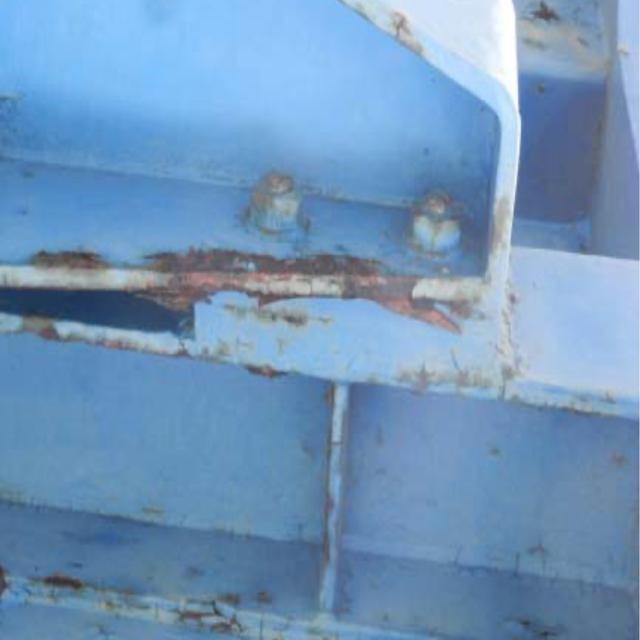corrosion: (30, 242, 477, 332)
